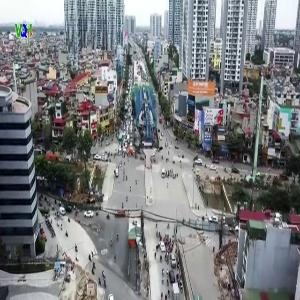drone: (104, 36, 157, 89)
